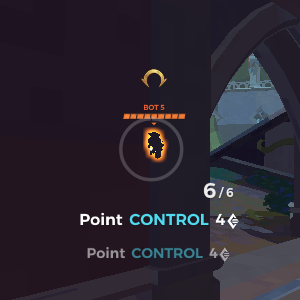model: (144, 125, 173, 162)
